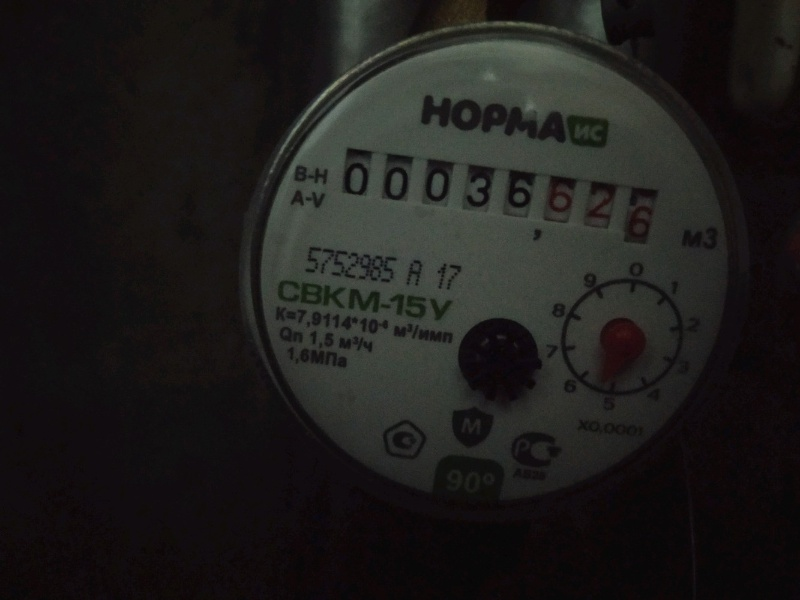meter: (335, 155, 655, 242)
